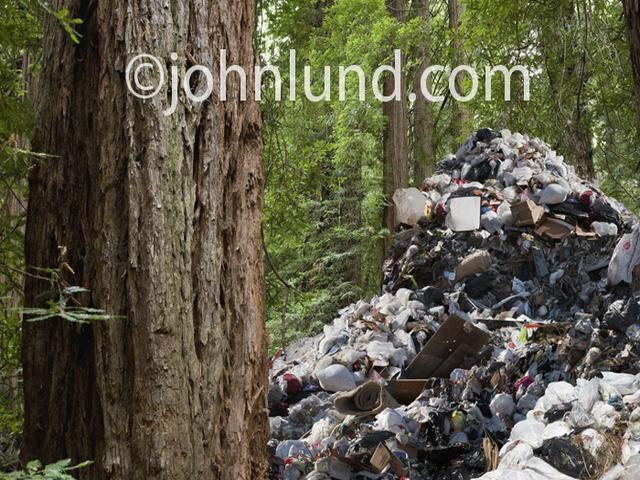garbage: (406, 173, 627, 480)
